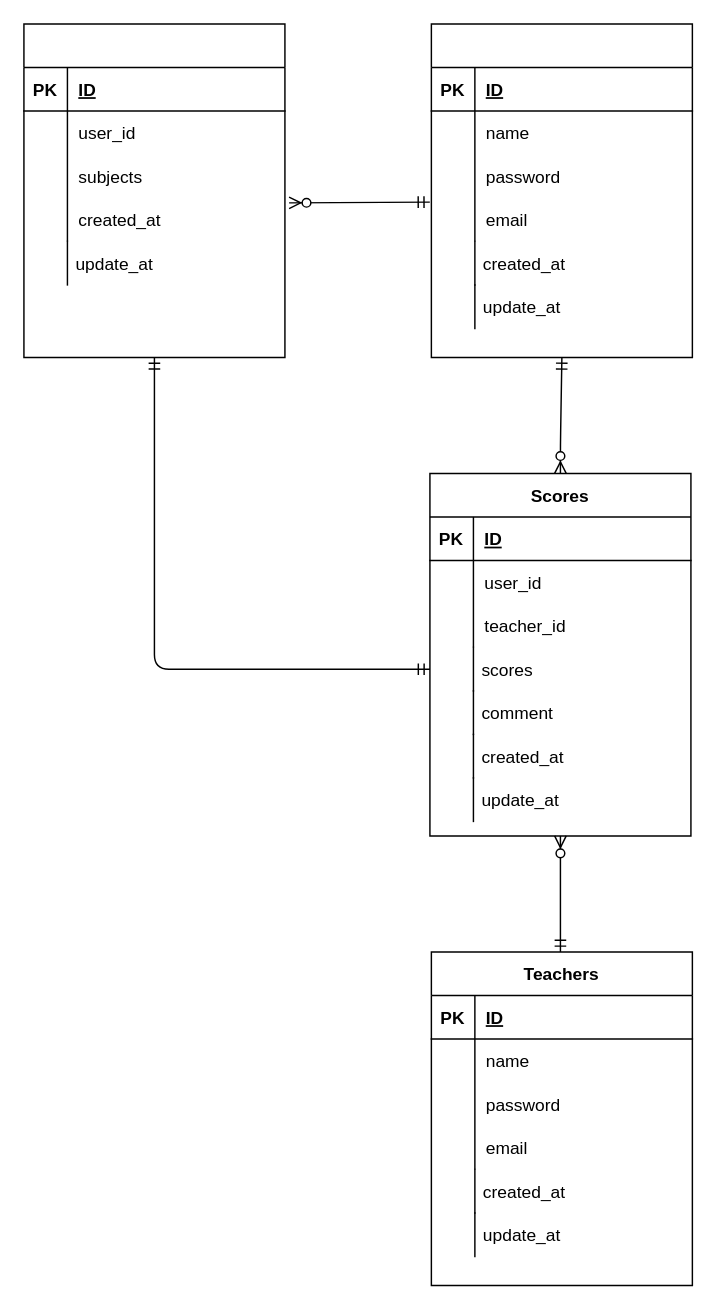
Image size: 716x1309. Some labels were removed from this diagram. Each missing label, with the box of its shape:
Applies: (22, 22, 285, 357)
Students: (430, 22, 692, 357)
